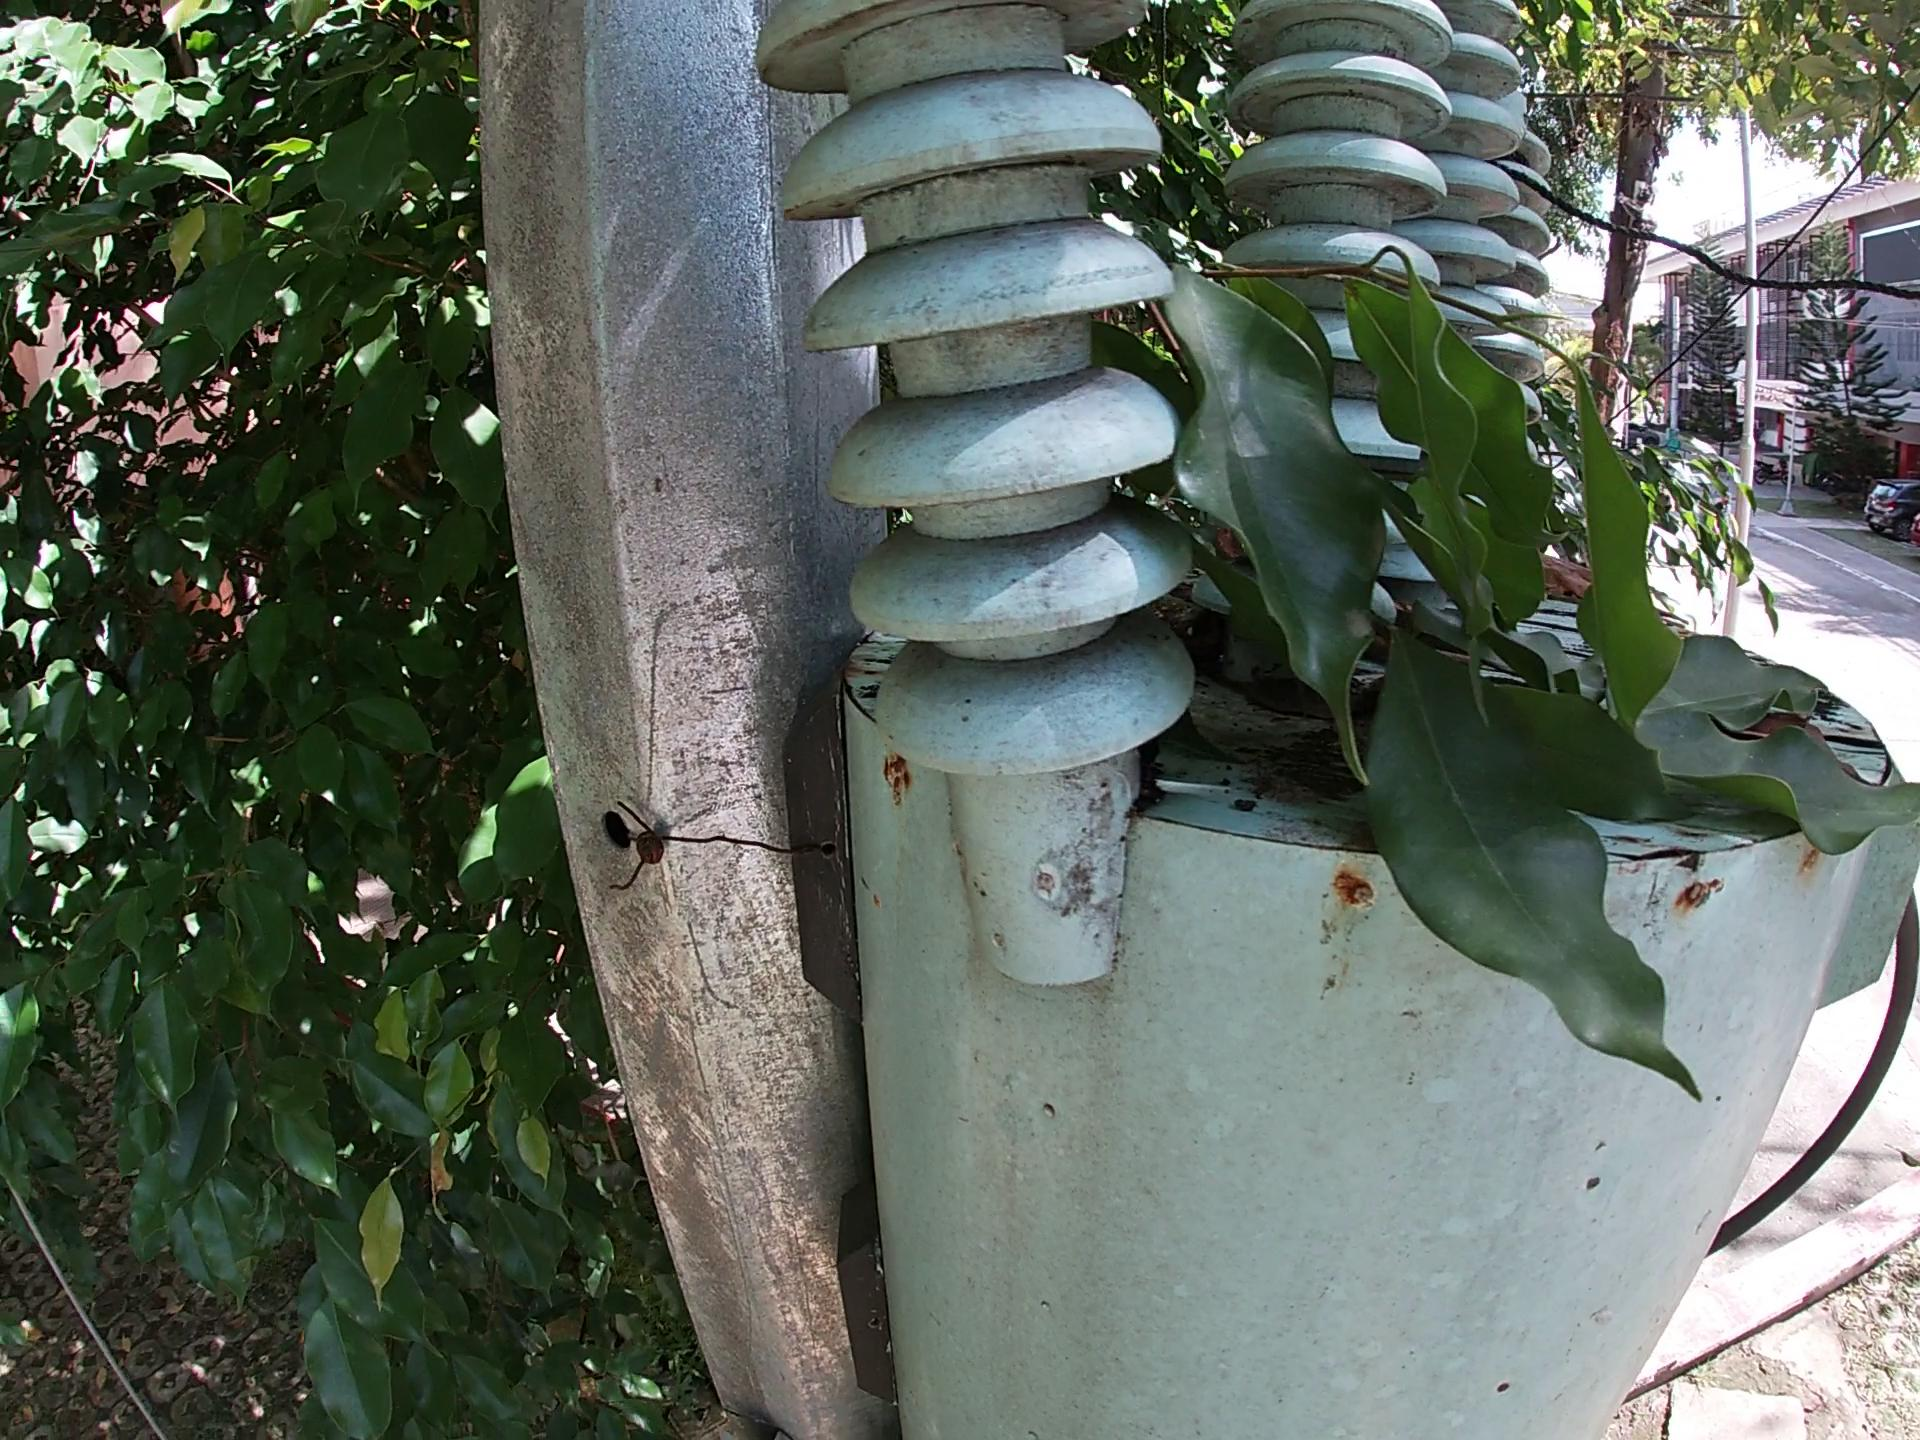branch with leaves: (1154, 242, 1920, 1134)
